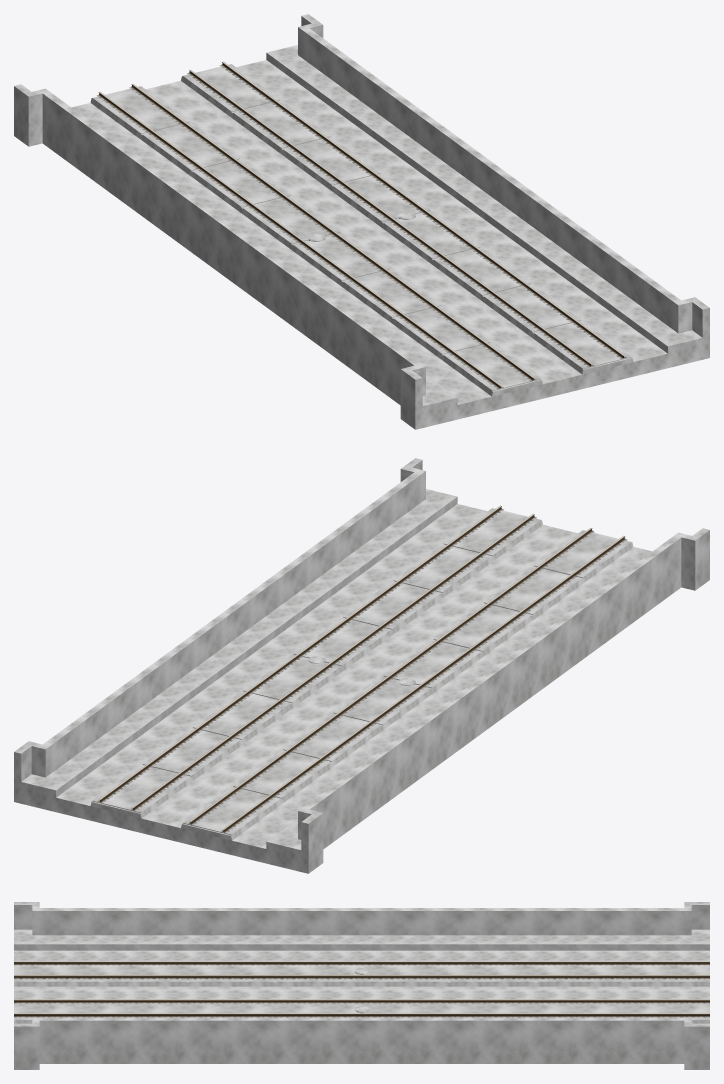
The model's file is HT_2RAIL_KONKURI100.glb.
The picture shows the model from 3 angles, top to bottom: view 1: azimuth 30°, elevation 25°; view 2: azimuth 150°, elevation 25°; view 3: azimuth 270°, elevation 25°; orthographic projection. The views are drawn at different scales.
Visible parts, largest first — view 1: obj6; view 2: obj6; view 3: obj6.
Boxes of the visible parts, bbox=[...] form: obj6: bbox=[14, 14, 709, 429]; obj6: bbox=[14, 458, 709, 873]; obj6: bbox=[14, 902, 709, 1069].
Bounding box in the file's own units: 42.36 × 6.88 × 100.
Materials: 5 (5 with a texture image).
